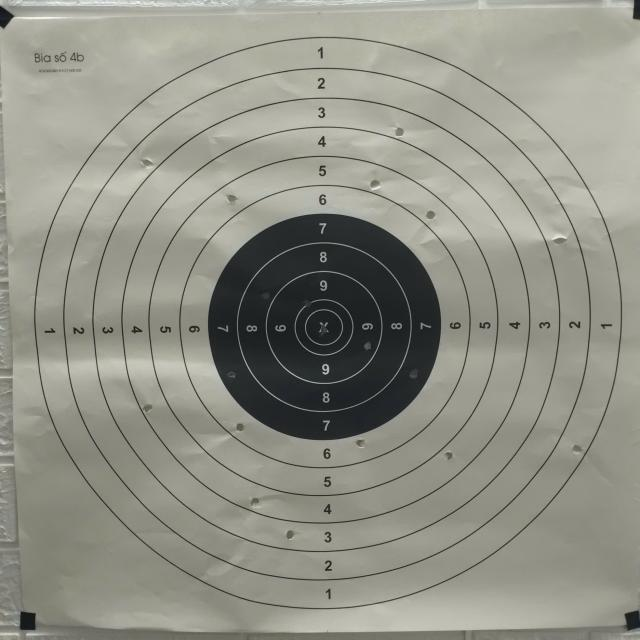bullet: (319, 321, 328, 336), (140, 156, 151, 168), (572, 444, 584, 455), (408, 368, 419, 379), (553, 236, 567, 244), (284, 532, 296, 540), (228, 192, 236, 204), (364, 340, 372, 352), (260, 292, 271, 300), (252, 496, 259, 508), (143, 404, 152, 413), (396, 128, 404, 136), (356, 440, 364, 448), (428, 212, 436, 220), (228, 372, 236, 380), (444, 452, 452, 460), (236, 423, 244, 431), (372, 180, 379, 188), (304, 300, 311, 308)
target: (8, 12, 636, 632)
